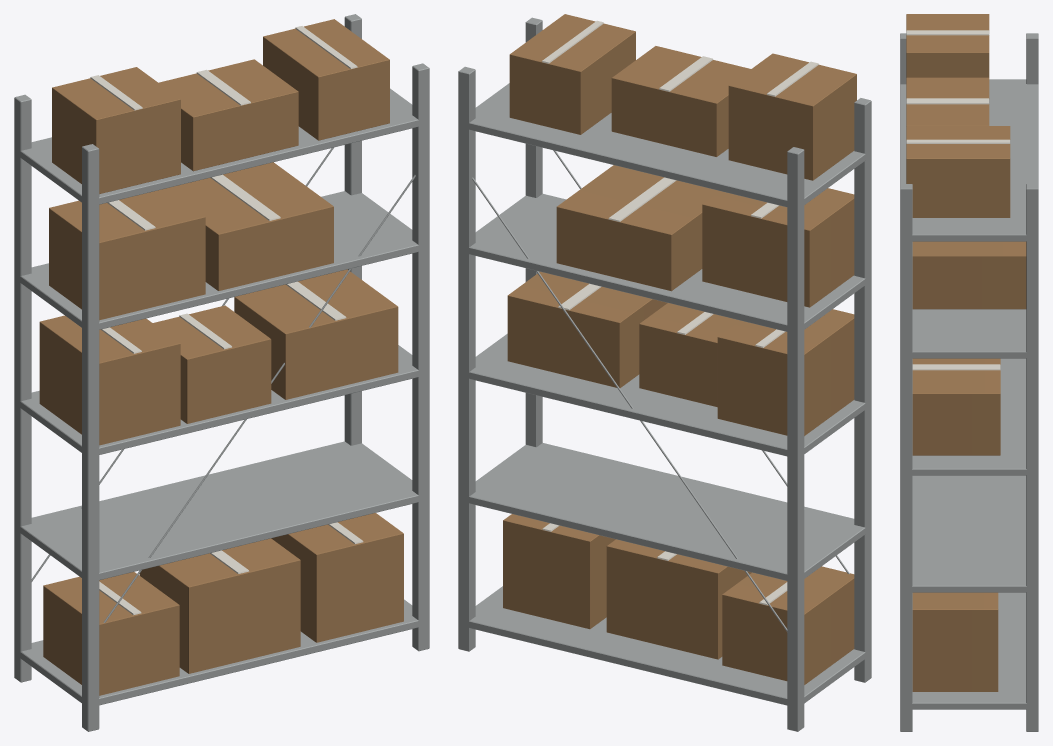
The model's file is prop_shelving_boxes.glb.
3 renders of one model, left to right at view 1: azimuth 30°, elevation 25°; view 2: azimuth 150°, elevation 25°; view 3: azimuth 270°, elevation 25°, orthographic. The views are drawn at different scales.
Visible parts, largest first — view 1: Shelving; view 2: Shelving; view 3: Shelving.
Boxes of the visible parts, <box> form: Shelving: <box>14,14,429,731</box>; Shelving: <box>458,14,871,731</box>; Shelving: <box>900,14,1038,731</box>.
Size of what is drawn, in the model's own units: 1.2 by 2.04 by 0.45.
